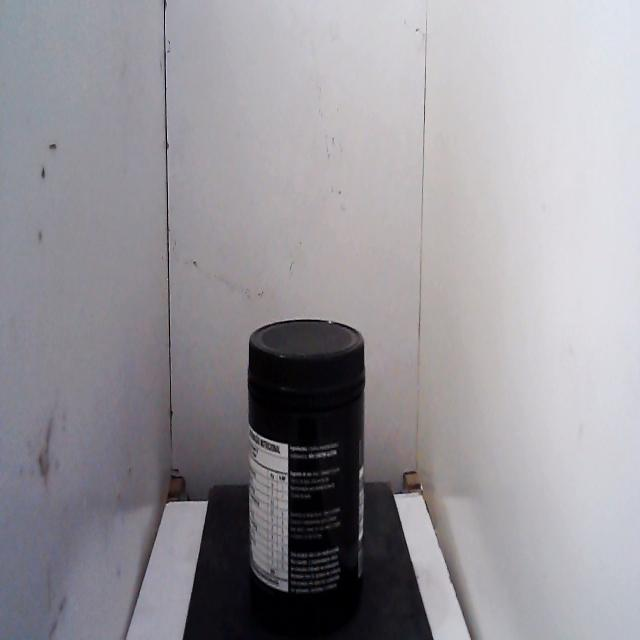plastico: (234, 290, 378, 620)
